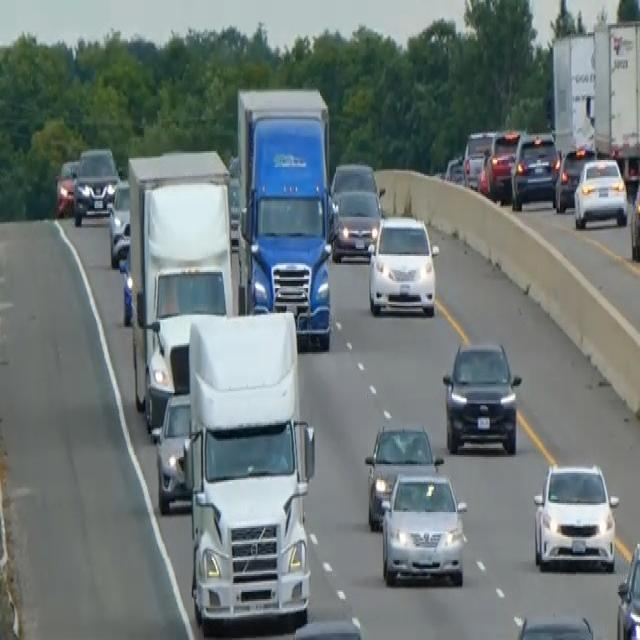car: (380, 469, 467, 587), (532, 460, 619, 572), (441, 338, 522, 455), (364, 421, 441, 530), (367, 214, 439, 316), (152, 391, 192, 514), (573, 154, 628, 228), (510, 130, 560, 210), (331, 187, 382, 261), (72, 144, 118, 224), (479, 128, 521, 203), (554, 144, 595, 212), (330, 160, 381, 213), (512, 610, 596, 638), (616, 539, 639, 638), (107, 178, 130, 266), (461, 128, 494, 188), (291, 615, 364, 638), (54, 156, 79, 217), (110, 217, 131, 268), (629, 171, 639, 261), (443, 155, 464, 185)
lorry: (181, 307, 316, 633), (234, 84, 336, 350), (142, 309, 227, 434)
